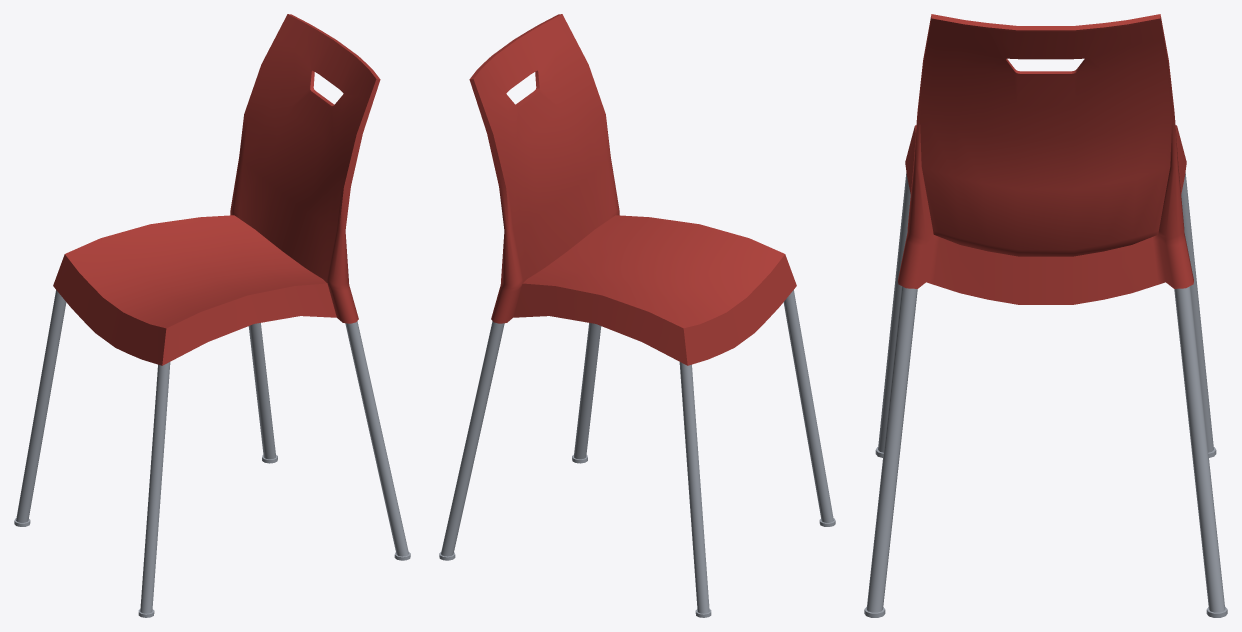
Rendered from PlasticChair.fbx.
3 views of the same model, side by side, from view 1: azimuth 30°, elevation 25°; view 2: azimuth 150°, elevation 25°; view 3: azimuth 270°, elevation 25° (orthographic). The views are drawn at different scales.
Parts seen in each view (by area): view 1: plastic chair 1; view 2: plastic chair 1; view 3: plastic chair 1.
Part boxes in pixels (left/top/right/bottom): plastic chair 1: left=14, top=14, right=410, bottom=617; plastic chair 1: left=439, top=14, right=835, bottom=617; plastic chair 1: left=864, top=14, right=1227, bottom=617.
Size of the model in its own units: 0.4961 by 0.8132 by 0.4484.
Materials: 1 (1 with a texture image).
